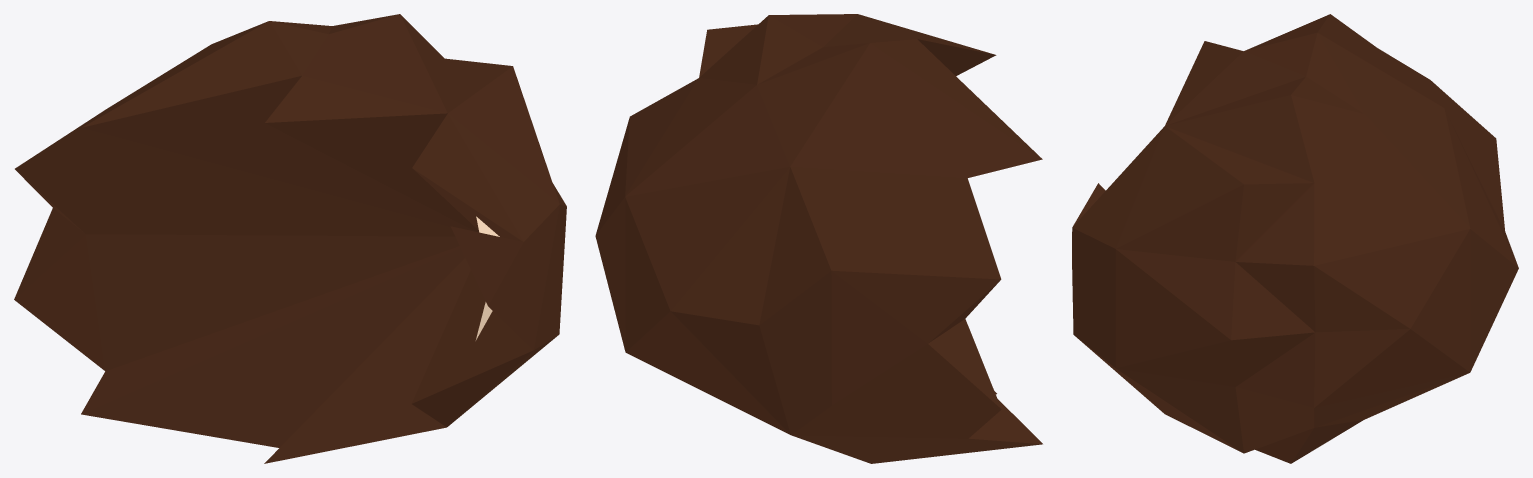
The model's file is hair22.glb.
3 views of the same model, side by side, from view 1: azimuth 30°, elevation 25°; view 2: azimuth 150°, elevation 25°; view 3: azimuth 270°, elevation 25° (orthographic). The views are drawn at different scales.
Parts seen in each view (by area): view 1: tomodachi-2026-03-07-23-49-48-733; view 2: tomodachi-2026-03-07-23-49-48-733; view 3: tomodachi-2026-03-07-23-49-48-733.
Part boxes in pixels (box(x1,y1,x2,y2)): tomodachi-2026-03-07-23-49-48-733: box(14, 14, 566, 463); tomodachi-2026-03-07-23-49-48-733: box(595, 14, 1042, 463); tomodachi-2026-03-07-23-49-48-733: box(1072, 14, 1518, 463).
Size of the model in its own units: 1.4 by 1.28 by 1.33.
Materials: 2 (2 with a texture image).
